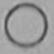no answer: (2, 1, 48, 49)
